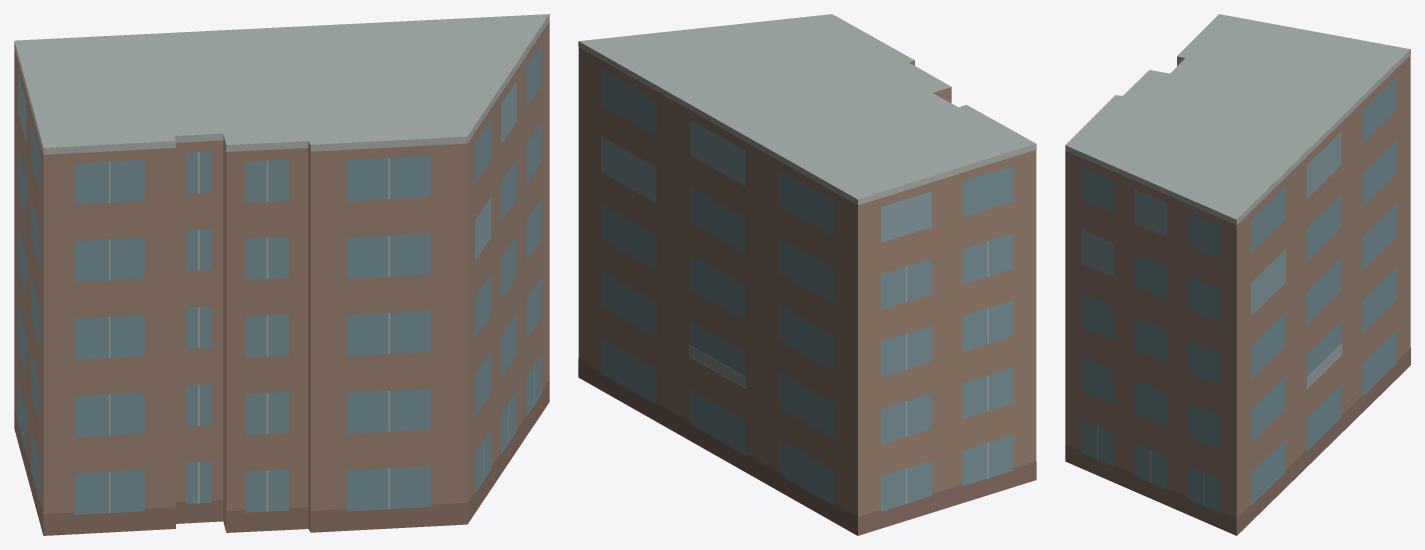
Rendered from survey-upis-32528569.glb.
3 views of the same model, side by side, from view 1: azimuth 30°, elevation 25°; view 2: azimuth 150°, elevation 25°; view 3: azimuth 270°, elevation 25° (orthographic). The views are drawn at different scales.
Parts seen in each view (by area): view 1: survey-upis-32528569.tmp; view 2: survey-upis-32528569.tmp; view 3: survey-upis-32528569.tmp.
Part boxes in pixels (bbox=[...]): survey-upis-32528569.tmp: bbox=[14, 14, 549, 535]; survey-upis-32528569.tmp: bbox=[578, 14, 1036, 535]; survey-upis-32528569.tmp: bbox=[1065, 14, 1410, 535].
Bounding box in the file's own units: 19.4 × 13.9 × 13.77.
